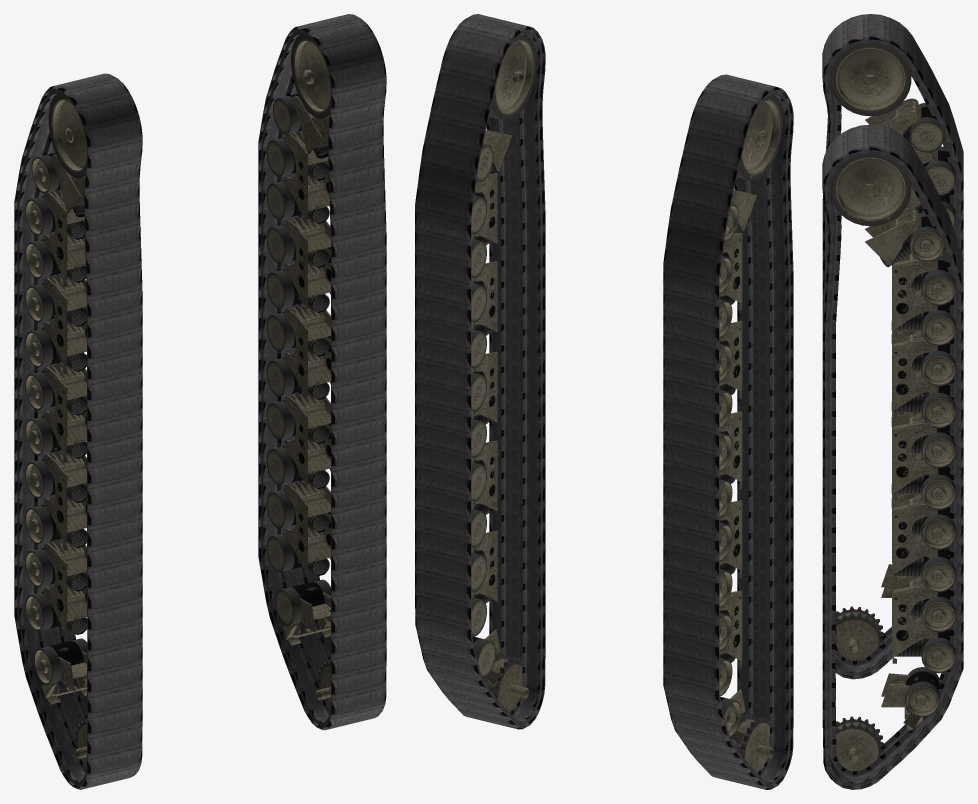
Rendered from Chassis.glb.
3 views of the same model, side by side, from view 1: azimuth 30°, elevation 25°; view 2: azimuth 150°, elevation 25°; view 3: azimuth 270°, elevation 25° (orthographic). The views are drawn at different scales.
Visible parts, largest first — view 1: set_0_group_0, set_1_group_0, set_5_group_0, set_3_group_0, set_4_group_0, set_2_group_0; view 2: set_0_group_0, set_1_group_0, set_5_group_0, set_3_group_0; view 3: set_5_group_0, set_1_group_0, set_3_group_0, set_0_group_0, set_4_group_0.
Part boxes in pixels (x1=…): set_0_group_0: x1=14, y1=73, x2=142, y2=789; set_1_group_0: x1=258, y1=14, x2=386, y2=730; set_5_group_0: x1=266, y1=34, x2=330, y2=709; set_3_group_0: x1=25, y1=94, x2=87, y2=768; set_4_group_0: x1=289, y1=292, x2=329, y2=532; set_2_group_0: x1=44, y1=330, x2=86, y2=591; set_0_group_0: x1=663, y1=74, x2=793, y2=789; set_1_group_0: x1=415, y1=14, x2=545, y2=729; set_5_group_0: x1=471, y1=34, x2=536, y2=711; set_3_group_0: x1=719, y1=95, x2=783, y2=772; set_5_group_0: x1=830, y1=154, x2=955, y2=771; set_1_group_0: x1=822, y1=124, x2=963, y2=789; set_3_group_0: x1=830, y1=43, x2=955, y2=660; set_0_group_0: x1=822, y1=14, x2=963, y2=679; set_4_group_0: x1=893, y1=385, x2=938, y2=616.
Bounding box in the file's own units: 3.28 × 7.25 × 1.44.
6 materials, 6 textured.
